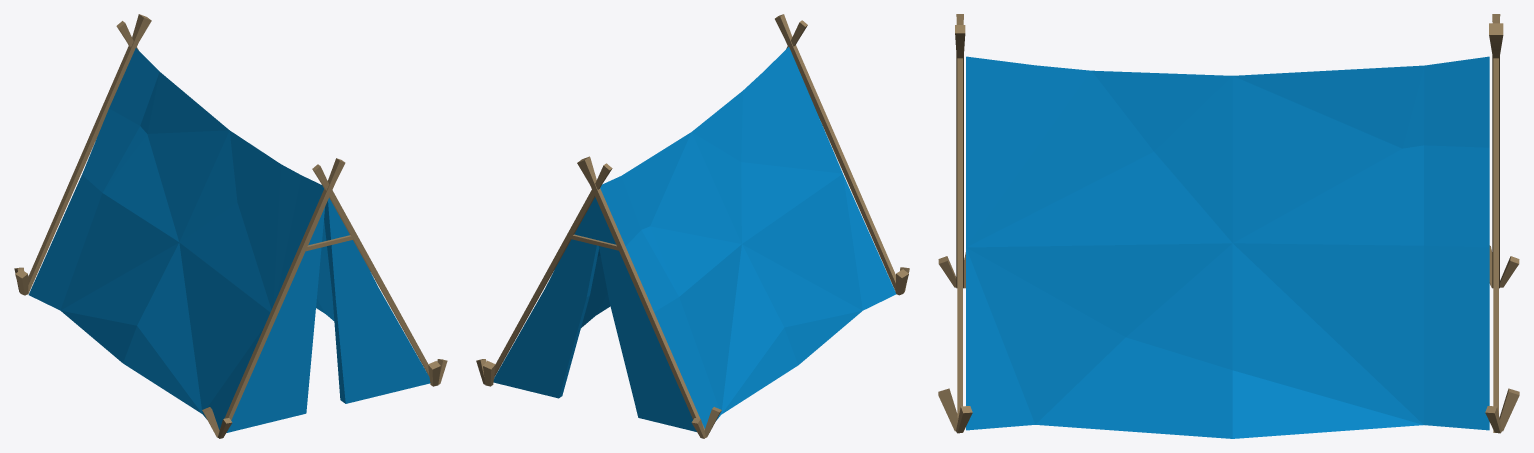
The model's file is model_polytope_tent04.fbx.
3 renders of one model, left to right at view 1: azimuth 30°, elevation 25°; view 2: azimuth 150°, elevation 25°; view 3: azimuth 270°, elevation 25°, orthographic. The views are drawn at different scales.
Visible parts, largest first — view 1: model_polytope_tent04; view 2: model_polytope_tent04; view 3: model_polytope_tent04.
Part boxes in pixels (x1,y1,x2,y2): model_polytope_tent04: [14, 14, 447, 438]; model_polytope_tent04: [476, 14, 909, 438]; model_polytope_tent04: [938, 14, 1519, 438].
Size of the model in its own units: 249 by 246 by 380.
